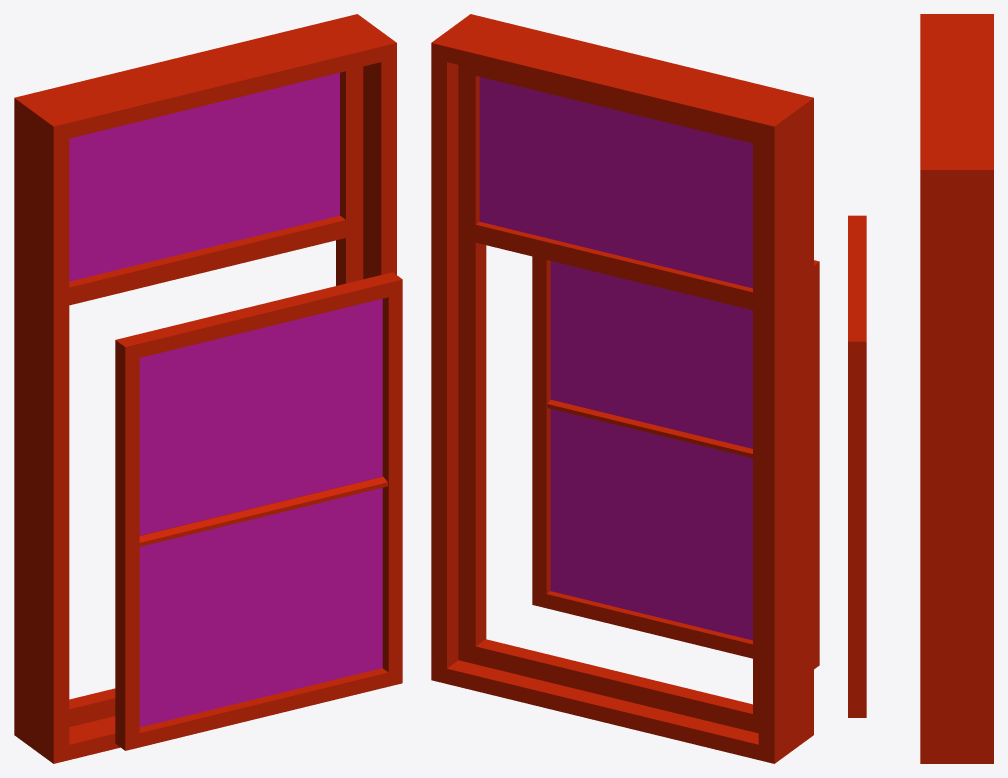
The model's file is Small_hangar_window_v1.FBX.
3 renders of one model, left to right at view 1: azimuth 30°, elevation 25°; view 2: azimuth 150°, elevation 25°; view 3: azimuth 270°, elevation 25°, orthographic. The views are drawn at different scales.
Parts seen in each view (by area): view 1: Glass_v2_p1, Small_hangar_window_v1, Glass_v2, Small_hangar_window_v1_p1; view 2: Small_hangar_window_v1, Glass_v2_p1, Glass_v2, Small_hangar_window_v1_p1; view 3: Small_hangar_window_v1, Small_hangar_window_v1_p1.
Part boxes in pixels (x1=…): Glass_v2_p1: x1=139, y1=299, x2=382, y2=727; Small_hangar_window_v1: x1=14, y1=14, x2=396, y2=763; Glass_v2: x1=69, y1=72, x2=339, y2=281; Small_hangar_window_v1_p1: x1=115, y1=272, x2=402, y2=750; Small_hangar_window_v1: x1=431, y1=14, x2=813, y2=763; Glass_v2_p1: x1=550, y1=261, x2=752, y2=640; Glass_v2: x1=479, y1=77, x2=752, y2=288; Small_hangar_window_v1_p1: x1=532, y1=256, x2=819, y2=669; Small_hangar_window_v1: x1=920, y1=14, x2=993, y2=763; Small_hangar_window_v1_p1: x1=848, y1=215, x2=866, y2=717.
Bounding box in the file's own units: 1.48 × 2.62 × 0.5835.
